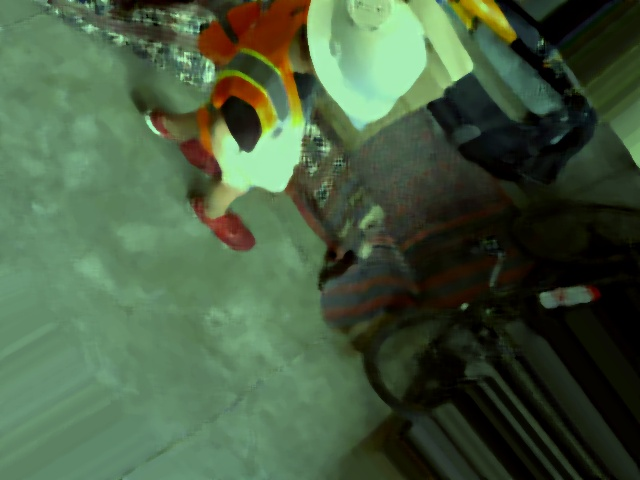one: (341, 0, 400, 39)
